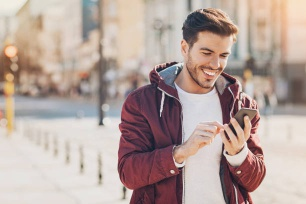male: (179, 5, 236, 89)
